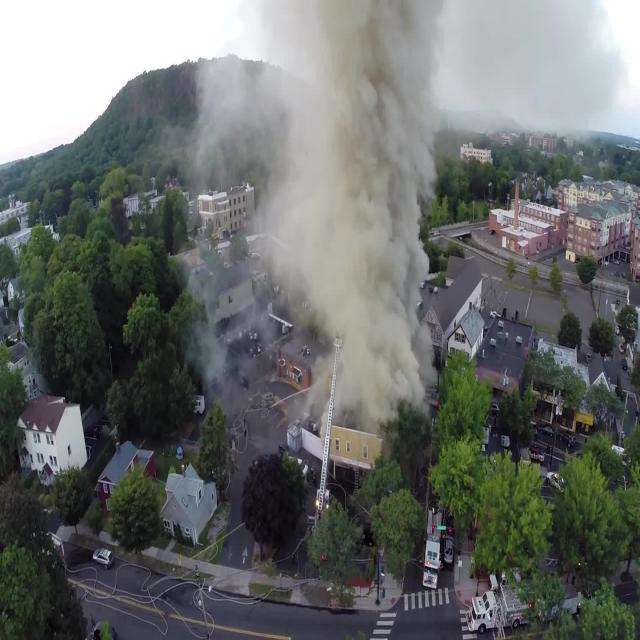smoke: (213, 4, 436, 379)
